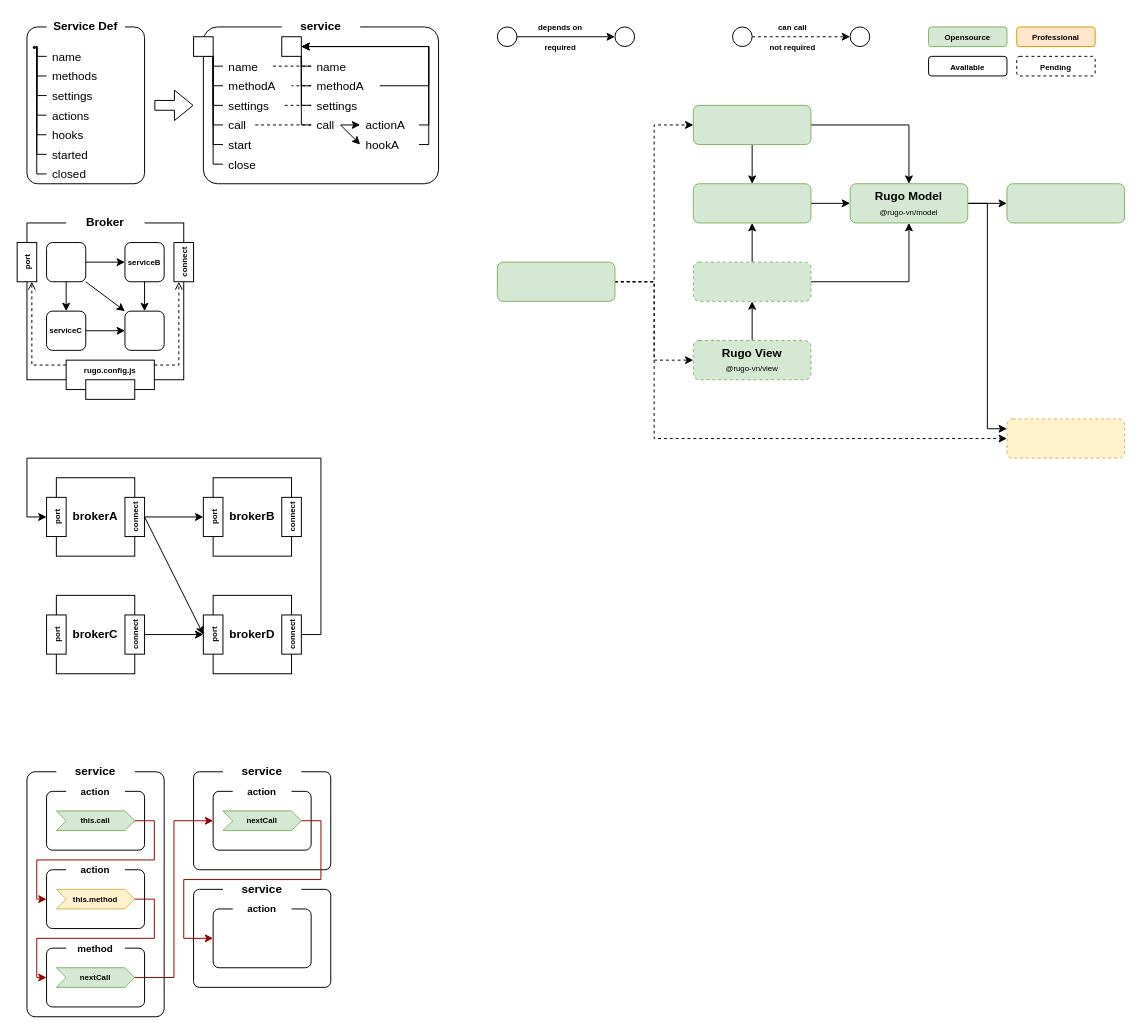
The diagram is 1142 pixels wide and 1034 high, and some of its shapes have lost their labels. The shapes that lost their labels are listed below. From the top down, each one's centre as x and y in pixels, then its label:
At [203,46]: "s.".
At [291,46]: "this.".
At [751,124]: "Rugo Api @rugo-vn/api".
At [751,203]: "Rugo Auth @rugo-vn/auth".
At [1065,203]: "Rugo Driver @rugo-vn/driver".
At [66,262]: "serviceA".
At [555,281]: "Rugo Server @rugo-vn/api".
At [751,281]: "Rugo Fx @rugo-vn/fx".
At [144,330]: "serviceD".
At [110,389]: ".env".
At [1065,438]: "Rugo Caddy @rugo-vn/caddy".
